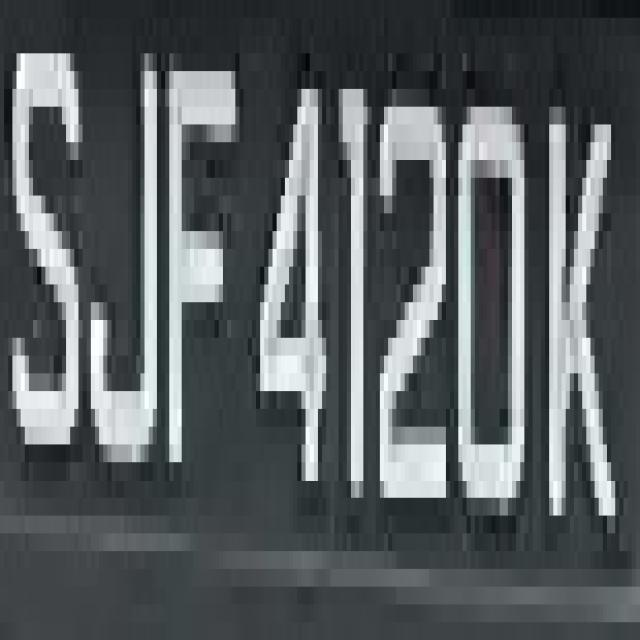0: (450, 71, 533, 551)
1: (330, 53, 368, 551)
2: (368, 71, 454, 587)
4: (244, 18, 330, 498)
F: (161, 18, 244, 498)
J: (91, 54, 169, 462)
K: (545, 71, 628, 569)
S: (12, 0, 91, 516)
